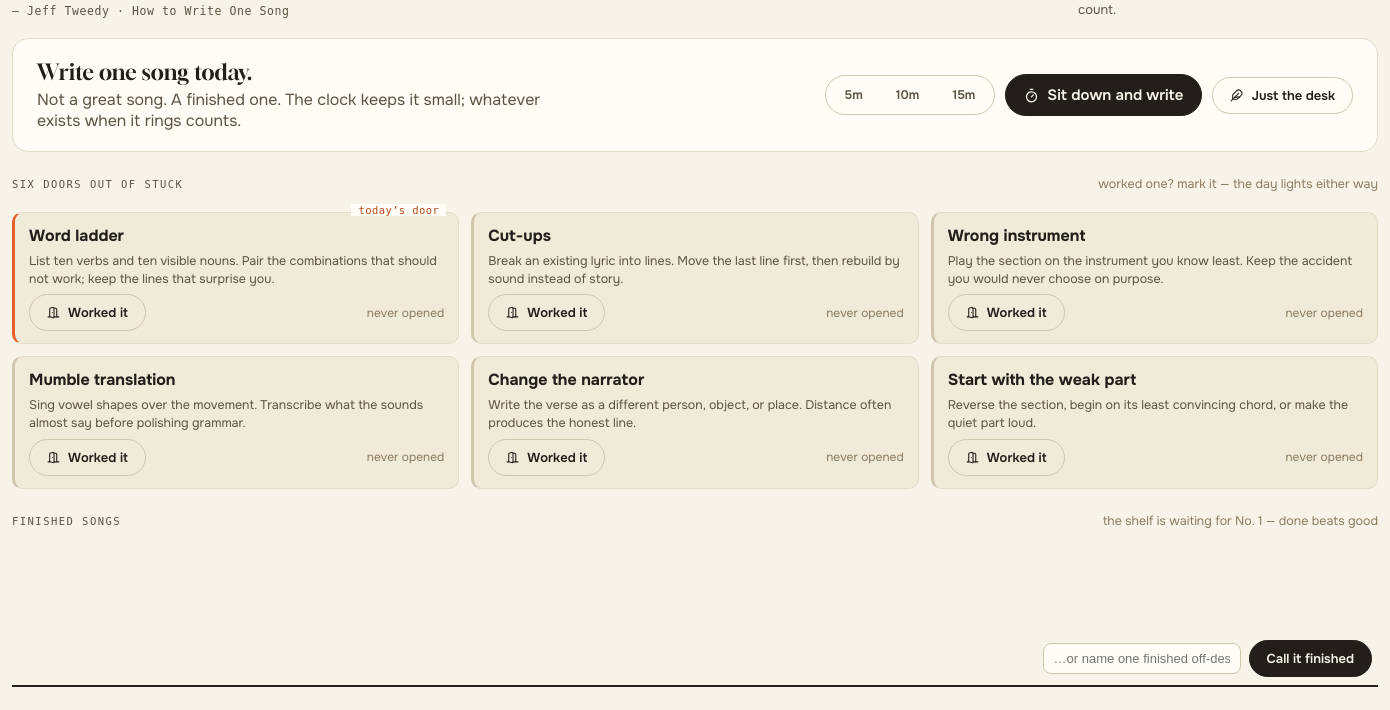
Test: keeps the title and accurately scopes backup recovery when finishing fails
In the field named "name a song finished elsewhere": coordinates (1142, 658) x1=1043 y1=642 x2=1241 y2=674, type "Keep this title"
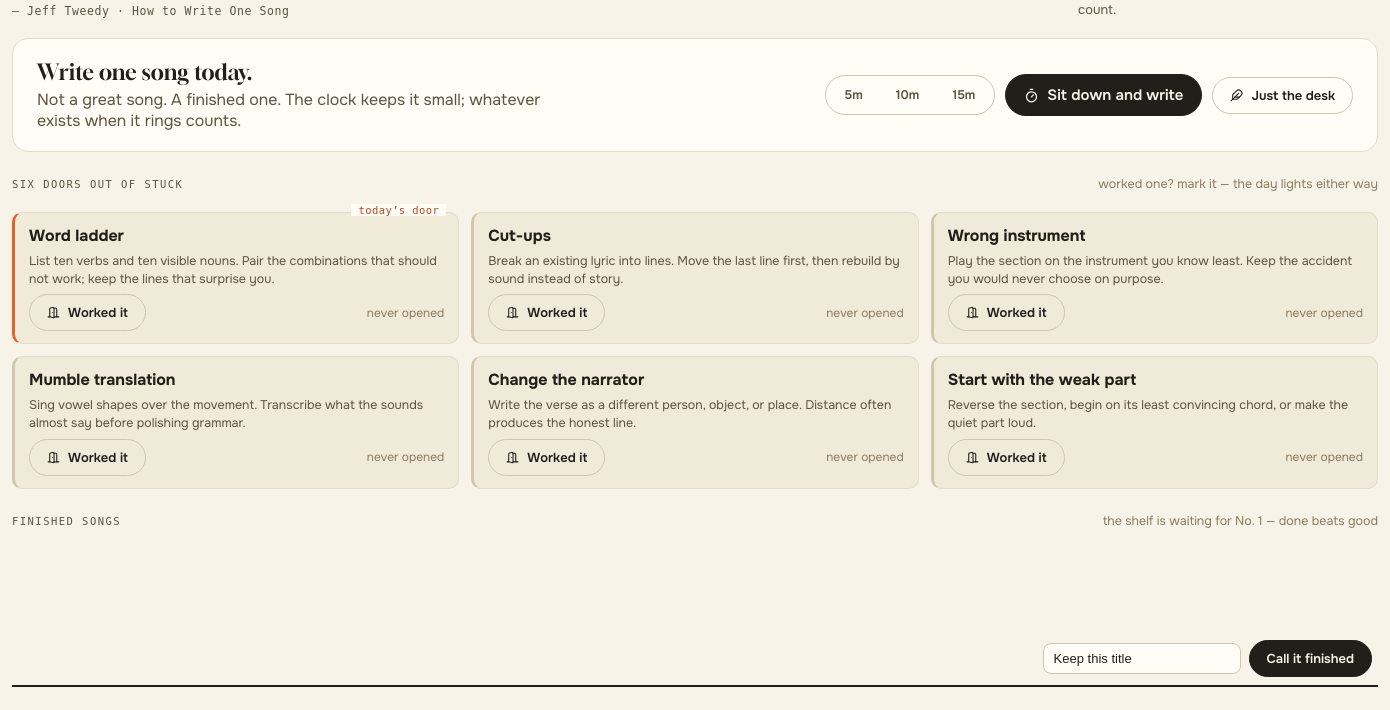
Click the button "Call it finished": coordinates (1310, 658) x1=1249 y1=640 x2=1372 y2=676
(page scrolled)
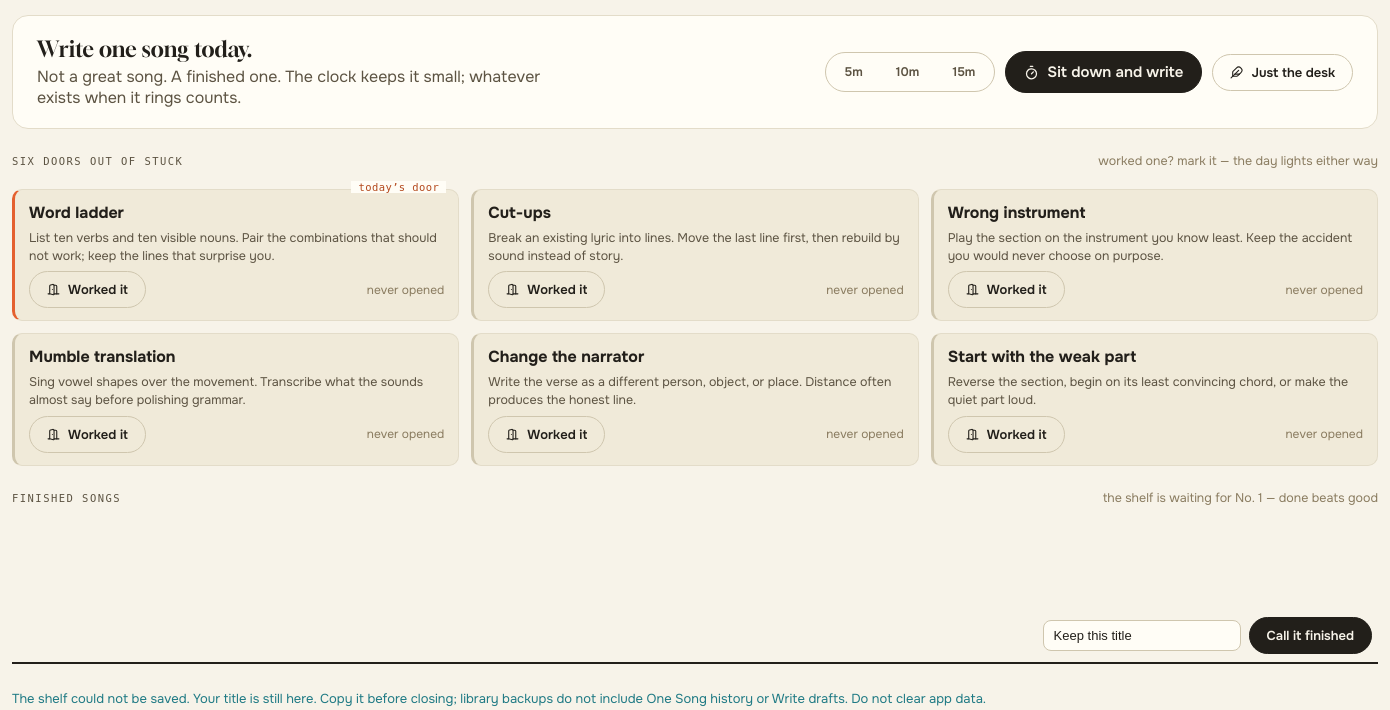
Expected: the text "Do not clear app data" is shown, x1=12 y1=690 x2=986 y2=706
